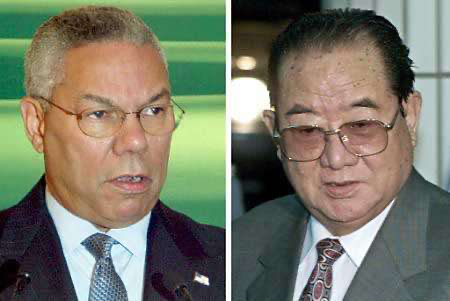Face: (39, 47, 181, 231), (275, 52, 420, 232)
